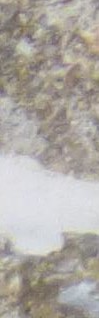Spalling: (1, 1, 99, 184), (1, 230, 99, 318)
